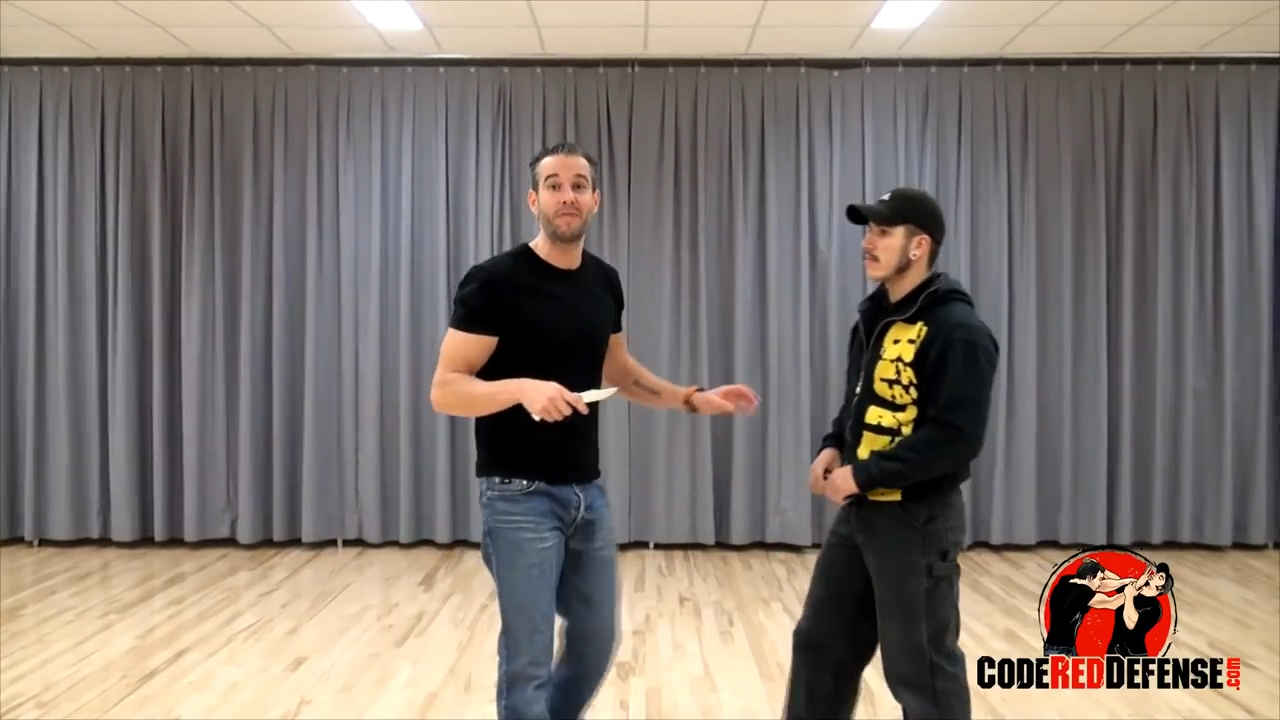knife: (524, 377, 622, 426)
